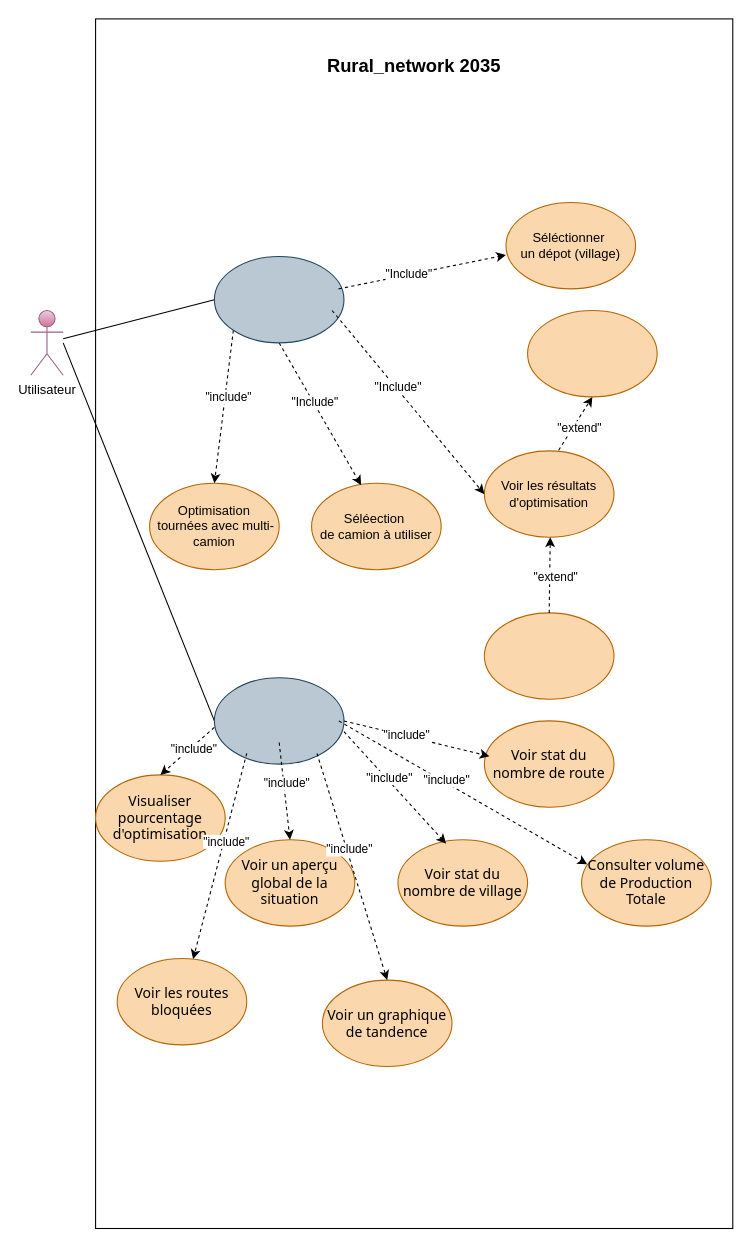
Some shapes in this 752 by 1247 pixel diagram are drawn without their labels. The centre of each missing label's shape, as x and y in pixels:
"Accès à Dashboard" goes at point (278, 720).
"Optimisation de tournées" goes at point (278, 299).
"Visualiser pourcentage réalisé" goes at point (591, 353).
"Voir les étapes de tournées" goes at point (548, 655).
